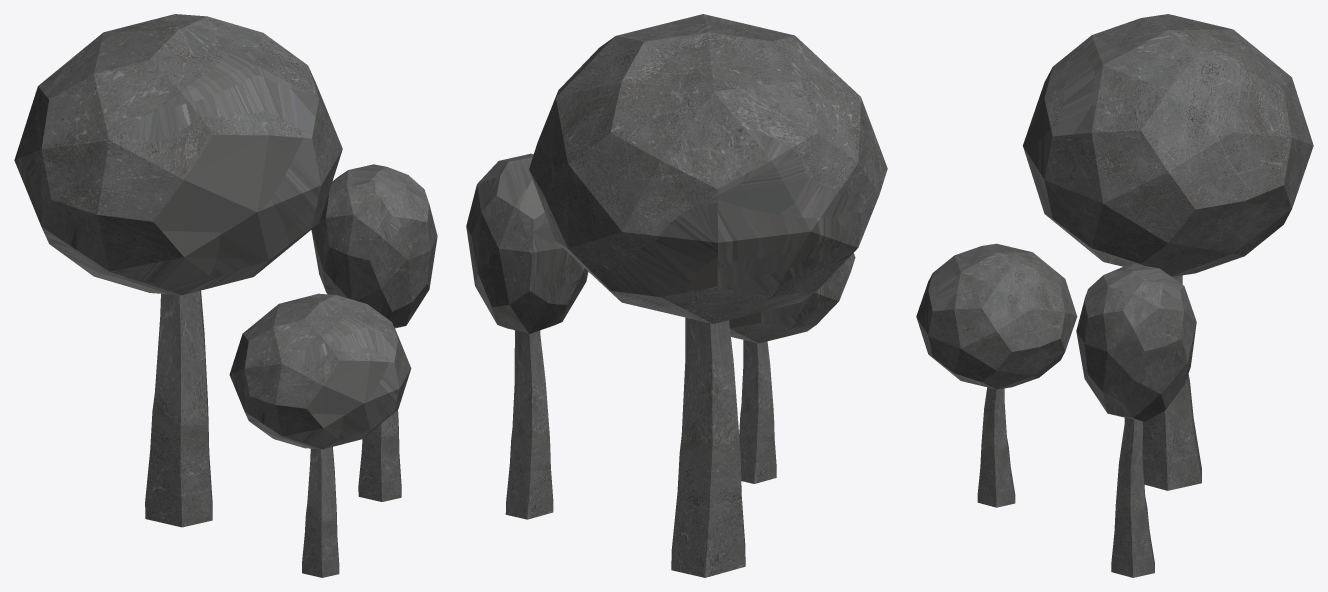
Rendered from ClusterOfTrees02.fbx.
The picture shows the model from 3 angles, left to right: view 1: azimuth 30°, elevation 25°; view 2: azimuth 150°, elevation 25°; view 3: azimuth 270°, elevation 25°; orthographic projection. The views are drawn at different scales.
Visible parts, largest first — view 1: TreeGreenTop (×2), OrangetreeBranch1 (×2), OrangeTreeBush, OrangetreeBranch; view 2: TreeGreenTop (×2), OrangetreeBranch1 (×2), OrangeTreeBush, OrangetreeBranch; view 3: TreeGreenTop (×2), OrangeTreeBush, OrangetreeBranch1 (×2), OrangetreeBranch.
Part boxes in pixels (x1,y1,x2,y2): TreeGreenTop (×2): (14, 14, 411, 449); OrangetreeBranch1 (×2): (145, 290, 339, 577); OrangeTreeBush: (311, 164, 437, 328); OrangetreeBranch: (358, 410, 401, 501); TreeGreenTop (×2): (529, 14, 887, 343); OrangetreeBranch1 (×2): (671, 317, 776, 577); OrangeTreeBush: (466, 153, 588, 333); OrangetreeBranch: (505, 330, 553, 519); TreeGreenTop (×2): (916, 14, 1313, 389); OrangeTreeBush: (1076, 264, 1196, 422); OrangetreeBranch1 (×2): (977, 275, 1201, 507); OrangetreeBranch: (1111, 417, 1154, 577).
Size of the model in its own units: 11.38 by 14.41 by 11.38.
